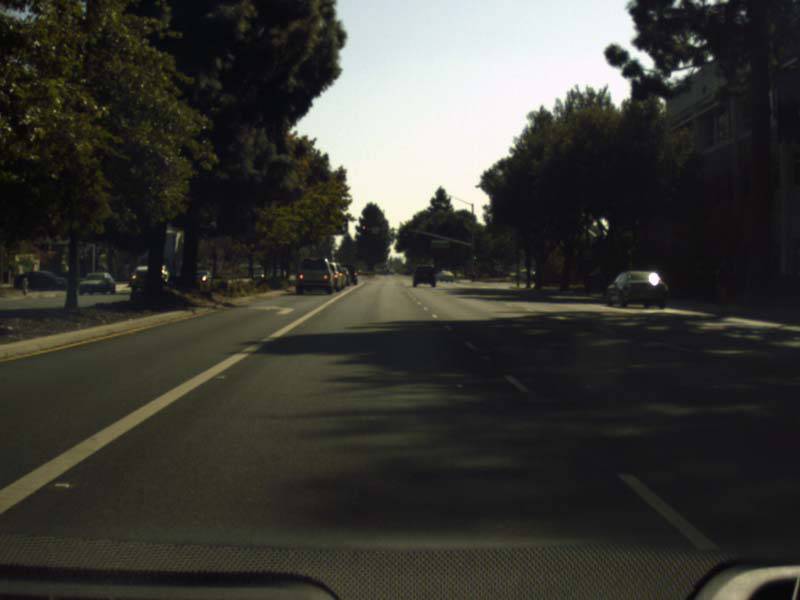Yellow: (360, 220, 367, 237)
